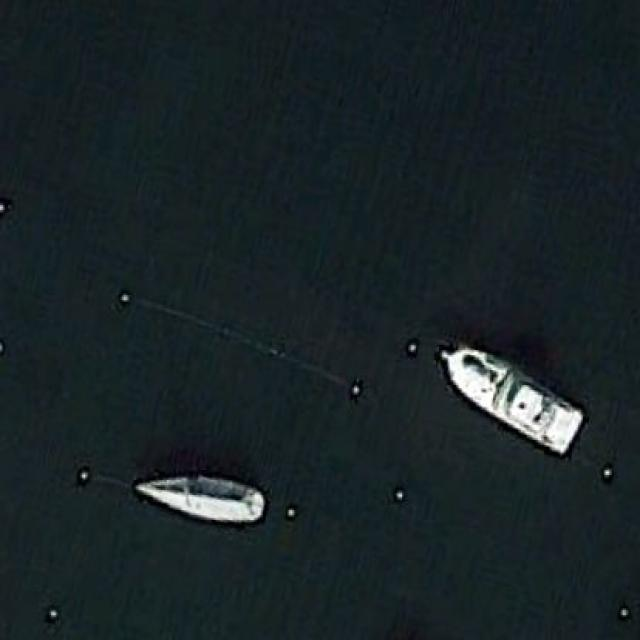ship: (436, 340, 583, 453), (131, 470, 266, 527)
